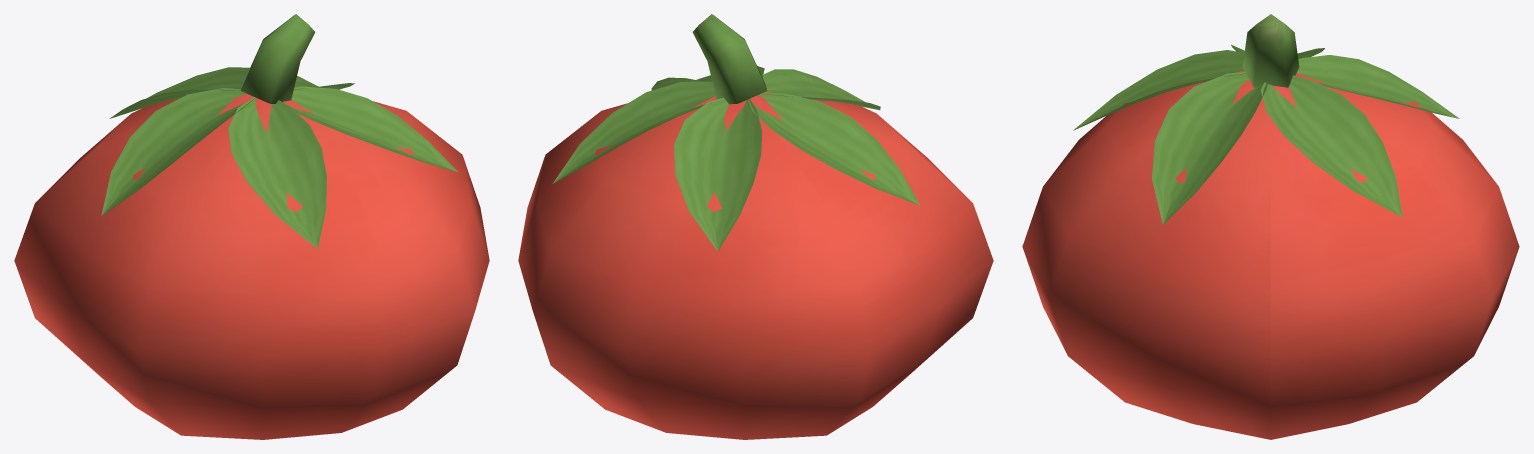
3 views of the same model, side by side, from view 1: azimuth 30°, elevation 25°; view 2: azimuth 150°, elevation 25°; view 3: azimuth 270°, elevation 25° (orthographic). The views are drawn at different scales.
Parts seen in each view (by area): view 1: tomato; view 2: tomato; view 3: tomato.
Boxes of the visible parts, x1=… form: tomato: x1=14, y1=14, x2=489, y2=439; tomato: x1=518, y1=14, x2=993, y2=439; tomato: x1=1022, y1=14, x2=1519, y2=439.
Bounding box in the file's own units: 0.1677 × 0.16 × 0.1677.
1 material, 1 textured.
